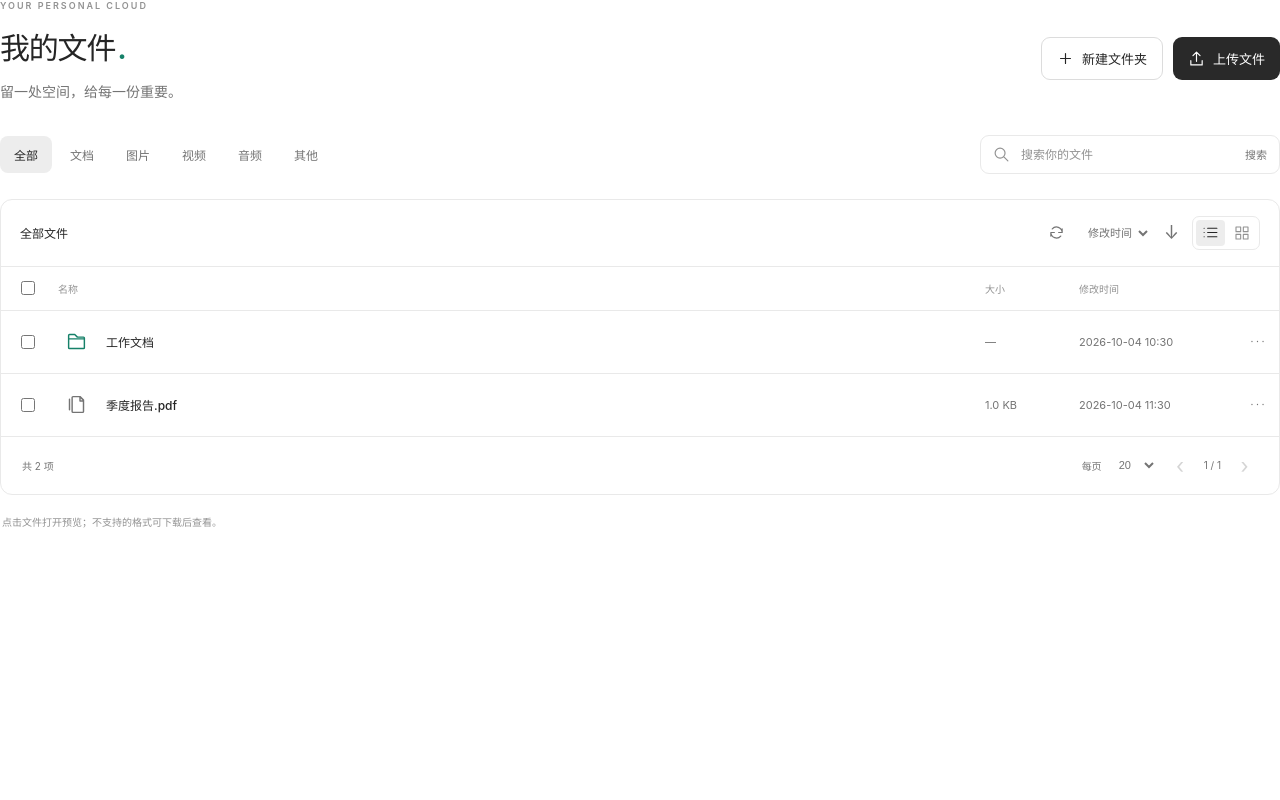
Test case: 文件浏览与组织 › 批量删除必须确认，取消不发送，成功后清空选择并显示空状态
The width and height of the screenshot is (1280, 800).
Click the checkbox named "选择当前页全部文件" at (28, 288), box [21,281,35,295]
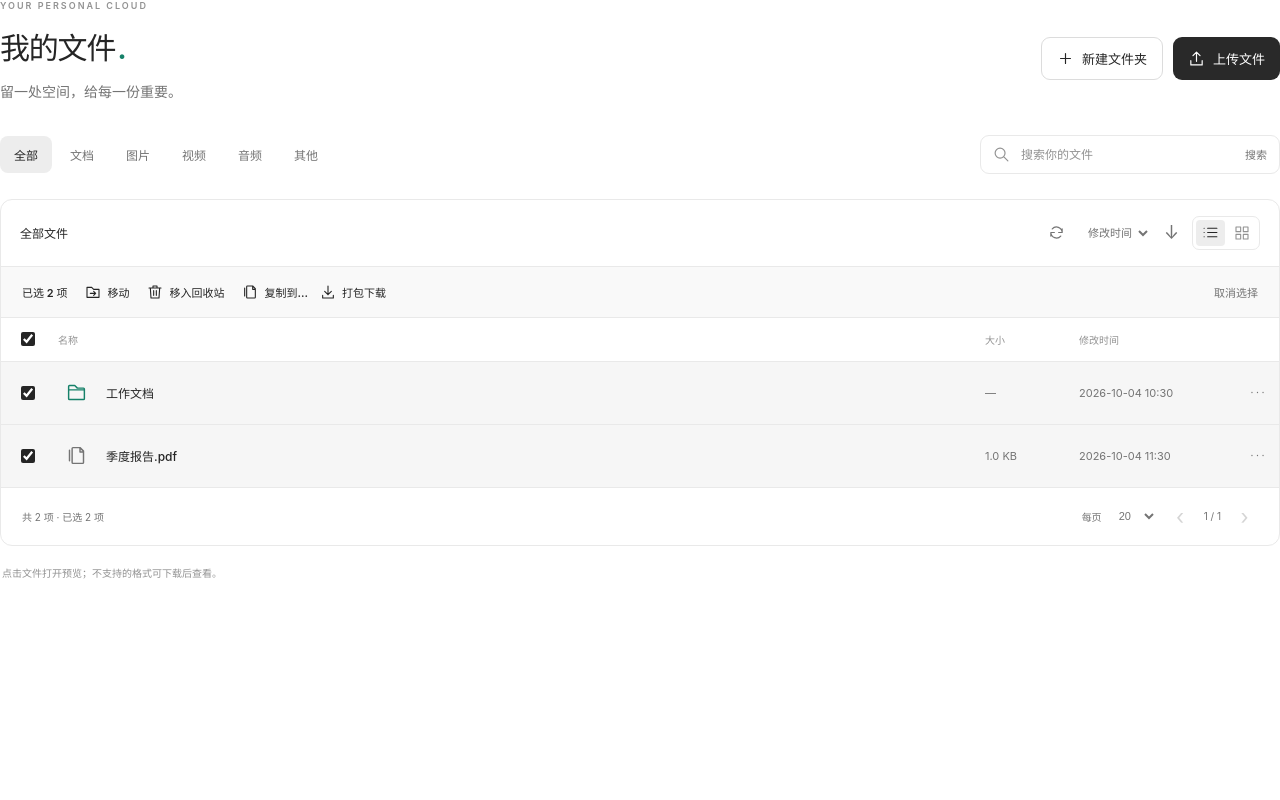
Click the button "移入回收站" at (186, 292), box [147,279,224,305]
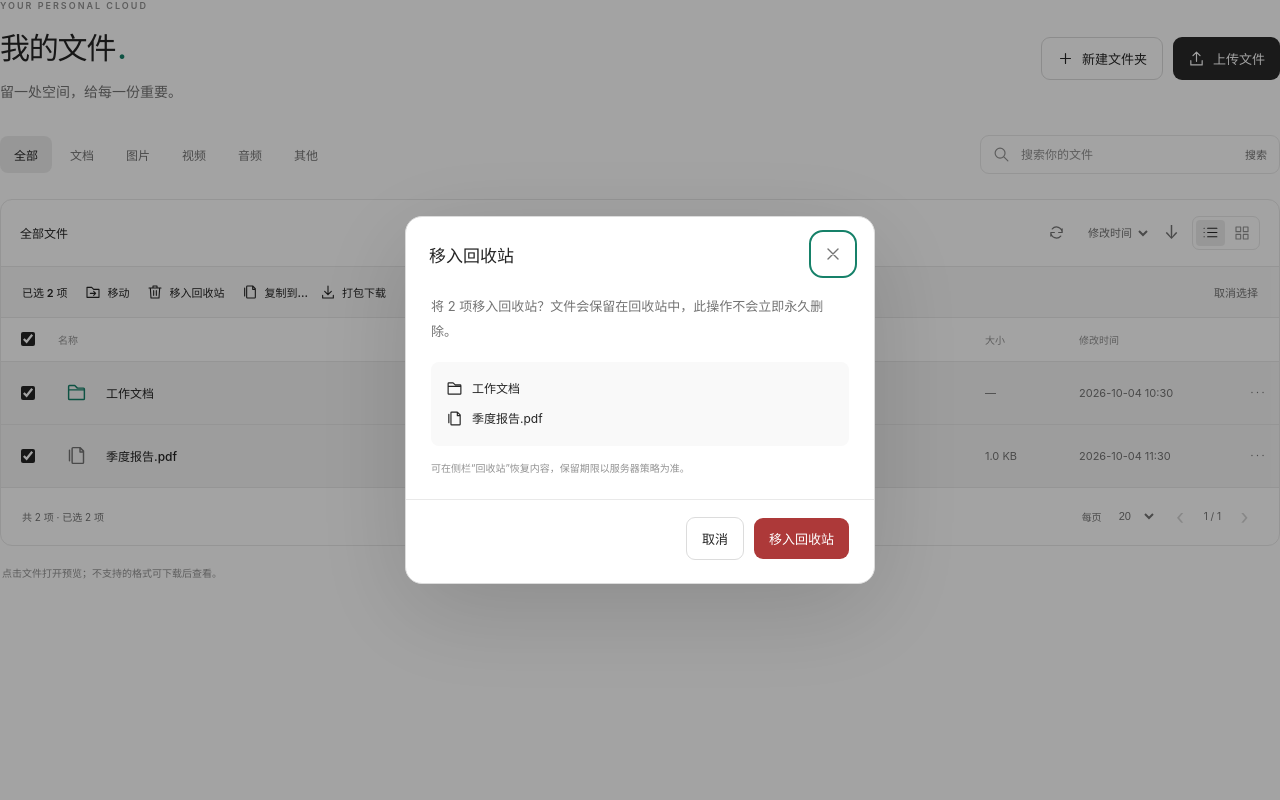
Now the text with class "dialog-description" shows "不会立即永久删除", box [431,298,823,339]
Click the button with class "secondary-button" showing "取消" at (715, 538), box [686,517,744,560]
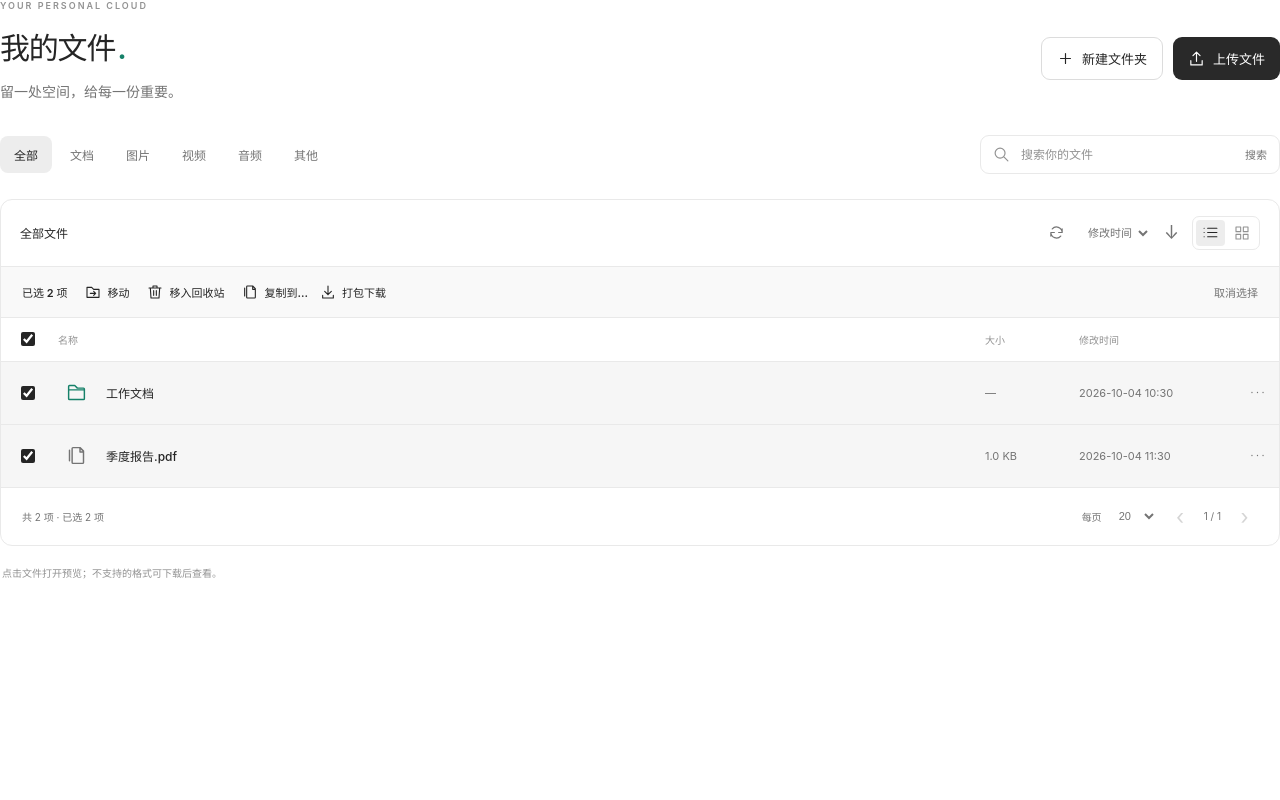
Click the button "移入回收站" at (186, 292), box [147,279,224,305]
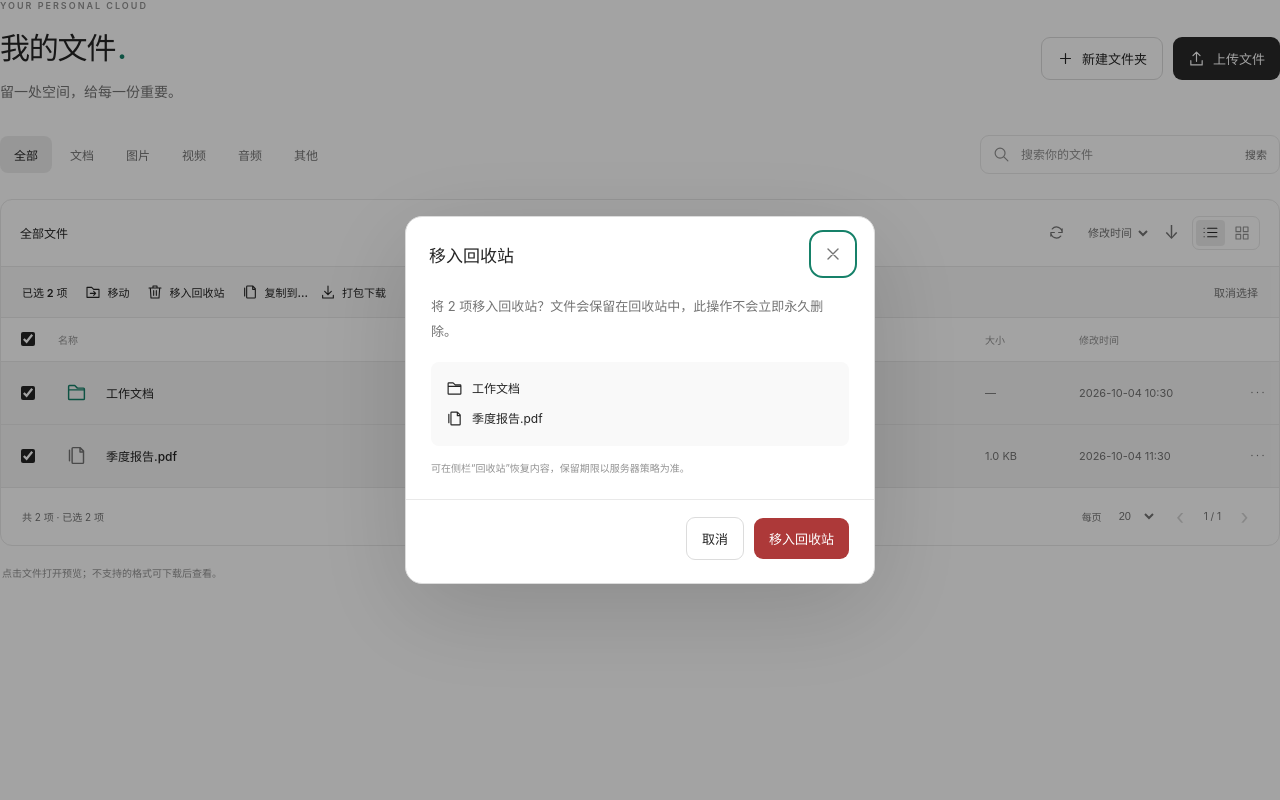
Click the button "移入回收站" at (802, 538), box [754,518,849,559]
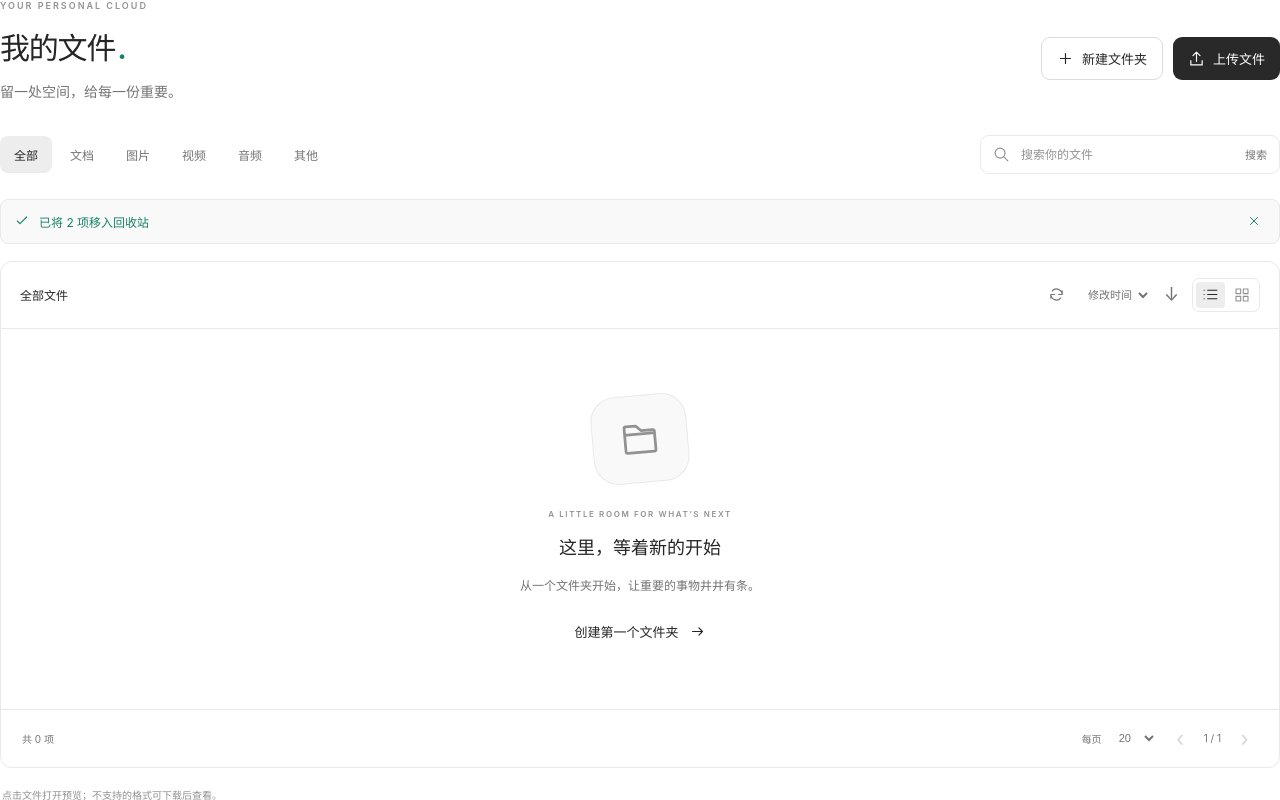
Now the element with class "selection-toolbar" is gone
Now the element with class "empty-files" shows "这里，等着新的开始", box [559,538,721,558]
